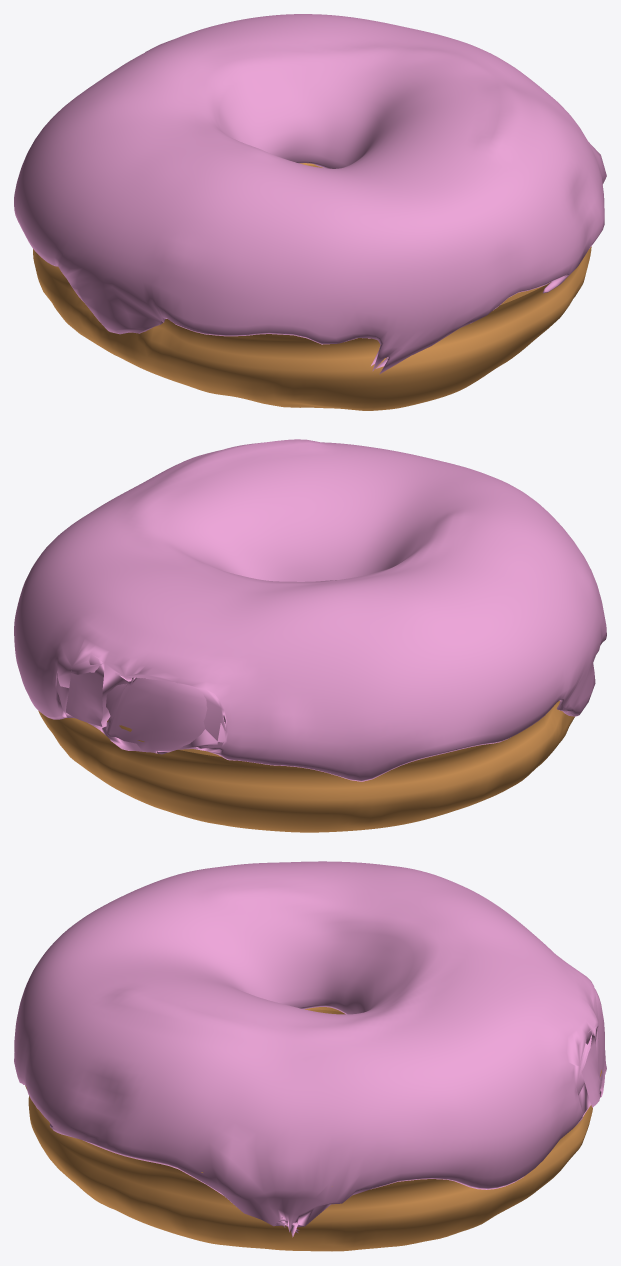
The model's file is Donut.glb.
3 views of the same model, one above another, from view 1: azimuth 30°, elevation 25°; view 2: azimuth 150°, elevation 25°; view 3: azimuth 270°, elevation 25° (orthographic).
Visible parts, largest first — view 1: Icing, Donut; view 2: Icing, Donut; view 3: Icing, Donut.
Part boxes in pixels (left/top/right/bottom): Icing: left=14, top=14, right=606, bottom=374; Donut: left=33, top=163, right=591, bottom=410; Icing: left=14, top=439, right=606, bottom=781; Donut: left=38, top=701, right=574, bottom=832; Icing: left=14, top=861, right=606, bottom=1237; Donut: left=25, top=1007, right=601, bottom=1251.
Bounding box in the file's own units: 0.1024 × 0.0461 × 0.1007.
